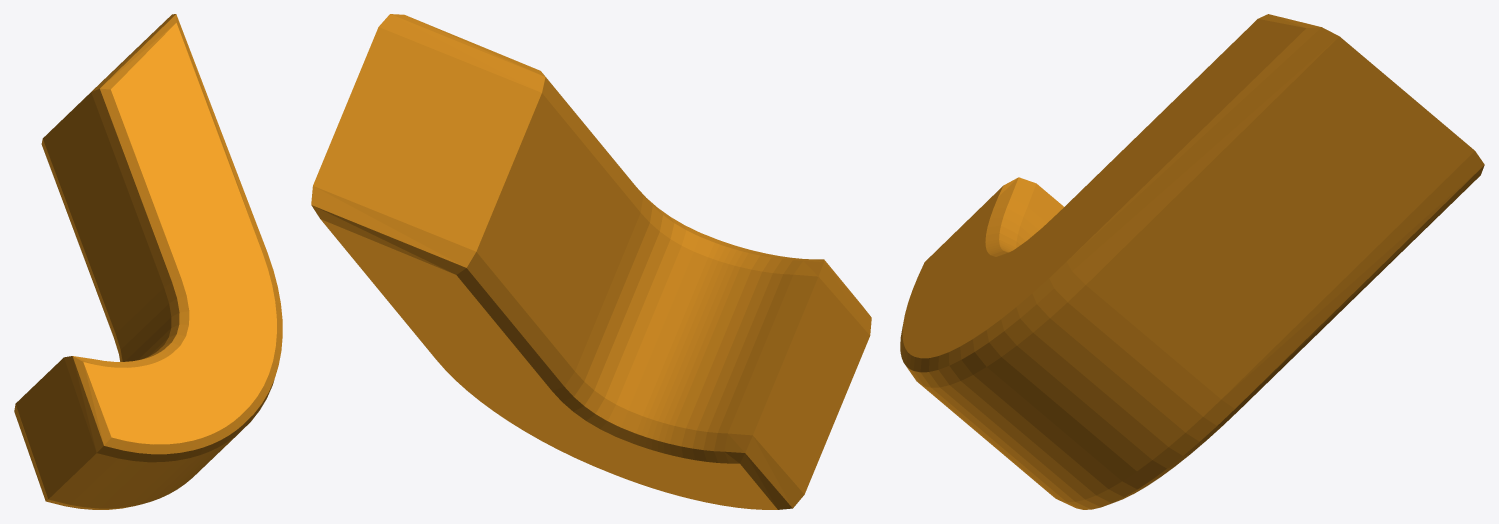
The picture shows the model from 3 angles, left to right: view 1: azimuth 30°, elevation 25°; view 2: azimuth 150°, elevation 25°; view 3: azimuth 270°, elevation 25°; orthographic projection. The views are drawn at different scales.
Visible parts, largest first — view 1: letter; view 2: letter; view 3: letter.
Boxes of the visible parts, left/top/right/bottom form: letter: left=14, top=14, right=282, bottom=509; letter: left=311, top=14, right=871, bottom=509; letter: left=900, top=14, right=1484, bottom=509.
Bounding box in the file's own units: 0.542 × 0.9136 × 0.8837.
